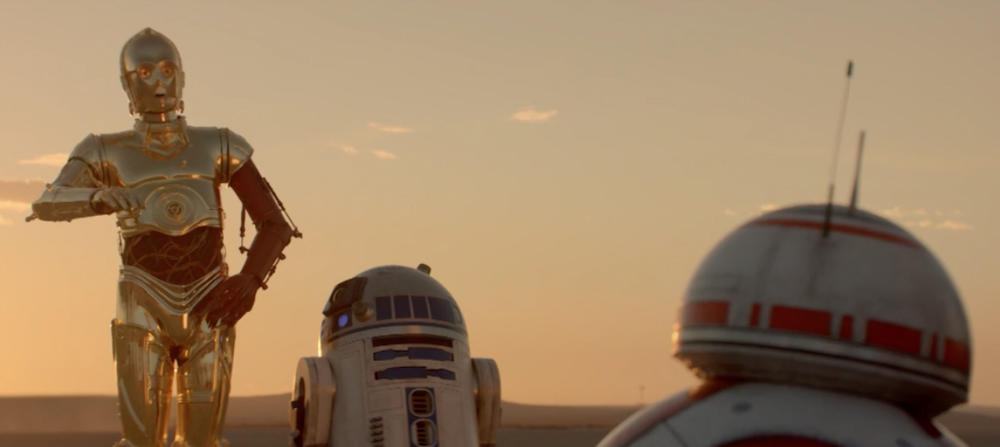r2d2: (289, 263, 503, 447)
